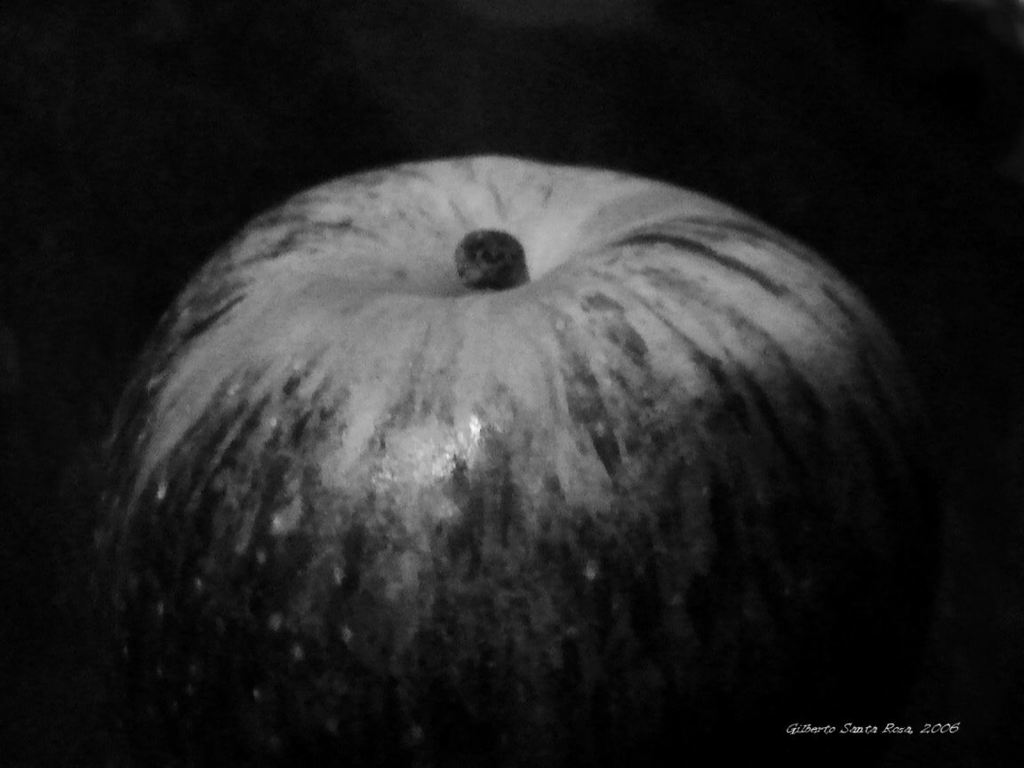Apple: (144, 96, 964, 766)
